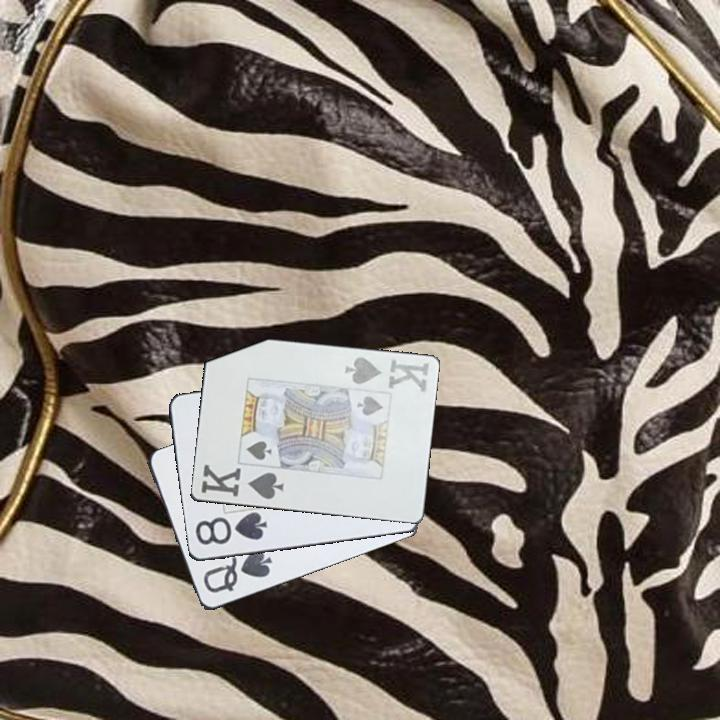8s: (191, 510, 270, 548)
Ks: (341, 353, 432, 396), (197, 461, 287, 503)
Qs: (200, 547, 275, 596)
